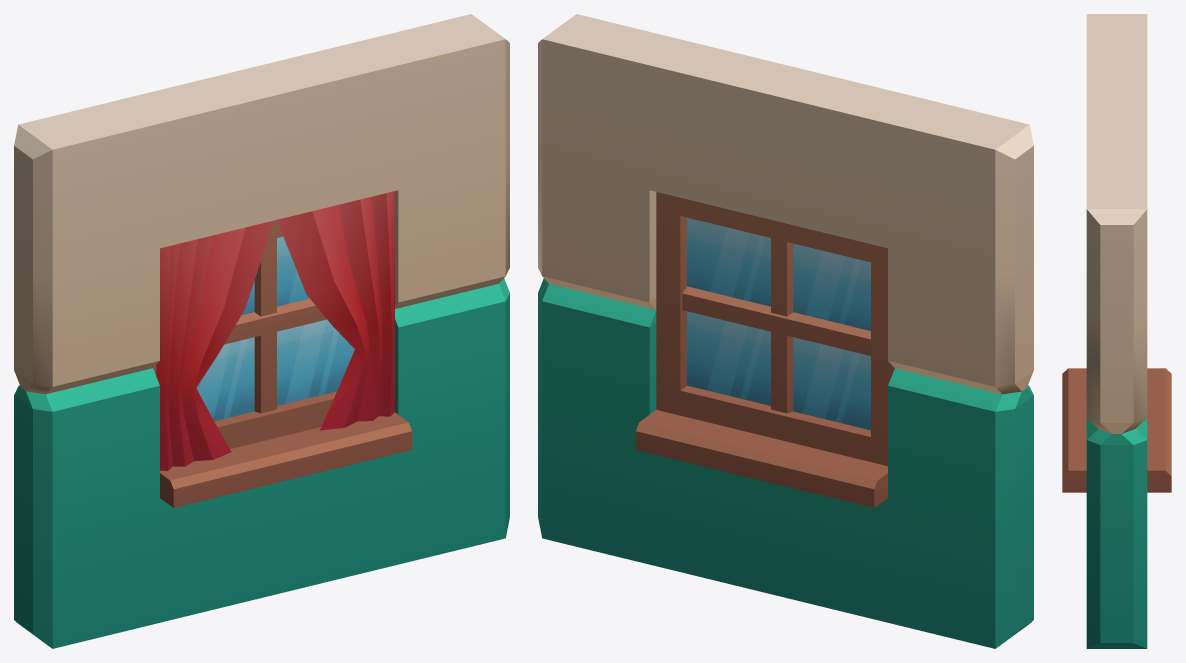
Rendered from wall_window_closed_curtains_red.obj.
3 renders of one model, left to right at view 1: azimuth 30°, elevation 25°; view 2: azimuth 150°, elevation 25°; view 3: azimuth 270°, elevation 25°, orthographic. The views are drawn at different scales.
Parts seen in each view (by area): view 1: wall_window_closed_curtains_red_Cube.422; view 2: wall_window_closed_curtains_red_Cube.422; view 3: wall_window_closed_curtains_red_Cube.422.
Boxes of the visible parts, x1=… form: wall_window_closed_curtains_red_Cube.422: x1=14, y1=14, x2=509, y2=648; wall_window_closed_curtains_red_Cube.422: x1=538, y1=14, x2=1033, y2=648; wall_window_closed_curtains_red_Cube.422: x1=1062, y1=14, x2=1171, y2=648.
Bounding box in the file's own units: 4 × 4 × 0.9.
Materials: 1 (1 with a texture image).
